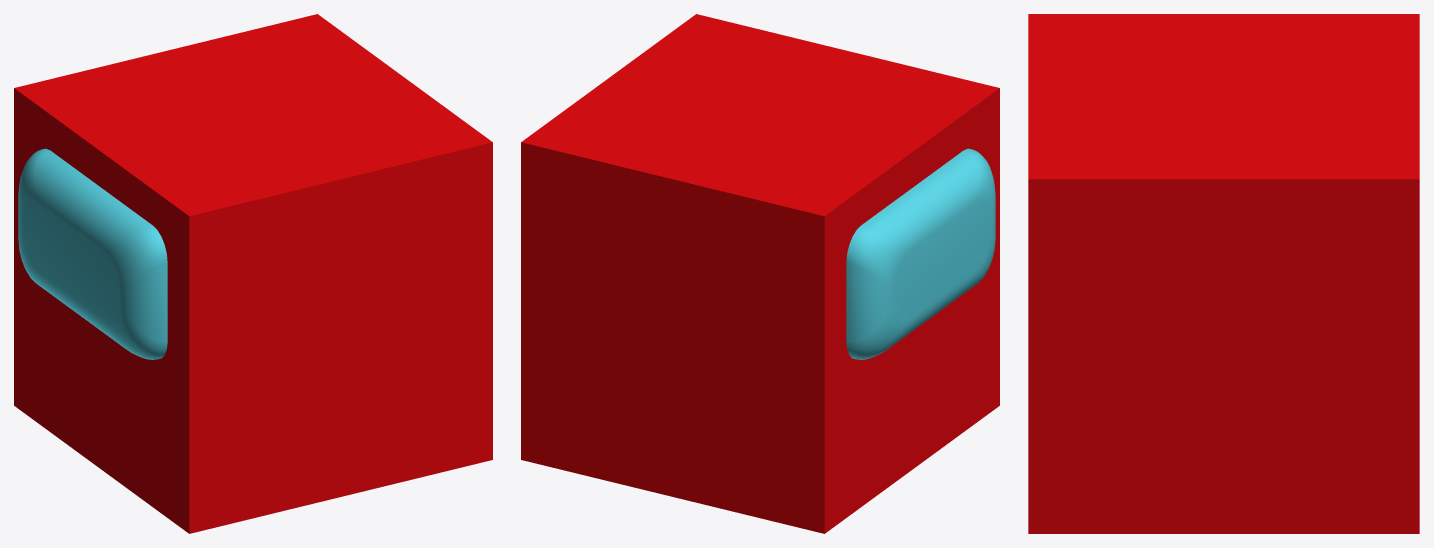
File: sus.gltf
3 renders of one model, left to right at view 1: azimuth 30°, elevation 25°; view 2: azimuth 150°, elevation 25°; view 3: azimuth 270°, elevation 25°, orthographic. The views are drawn at different scales.
Visible parts, largest first — view 1: Cube; view 2: Cube; view 3: Cube.
Boxes of the visible parts, <box> form: Cube: <box>14,14,492,533</box>; Cube: <box>521,14,999,533</box>; Cube: <box>1028,14,1419,533</box>.
Size of the model in its own units: 2.2 by 2 by 2.
